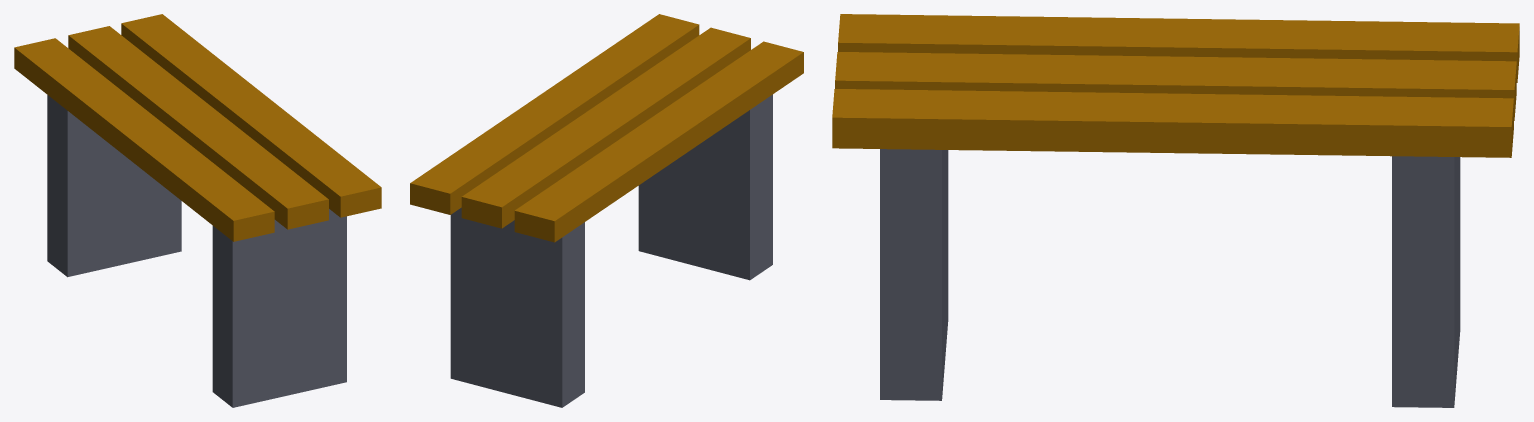
File: Bench.fbx
3 views of the same model, side by side, from view 1: azimuth 30°, elevation 25°; view 2: azimuth 150°, elevation 25°; view 3: azimuth 270°, elevation 25° (orthographic). The views are drawn at different scales.
Visible parts, largest first — view 1: Bench; view 2: Bench; view 3: Bench.
Boxes of the visible parts, box(x1,y1,x2,y2) form: Bench: box(14, 14, 381, 407); Bench: box(410, 14, 803, 407); Bench: box(832, 14, 1519, 407).
Bounding box in the file's own units: 155 × 189 × 398.
